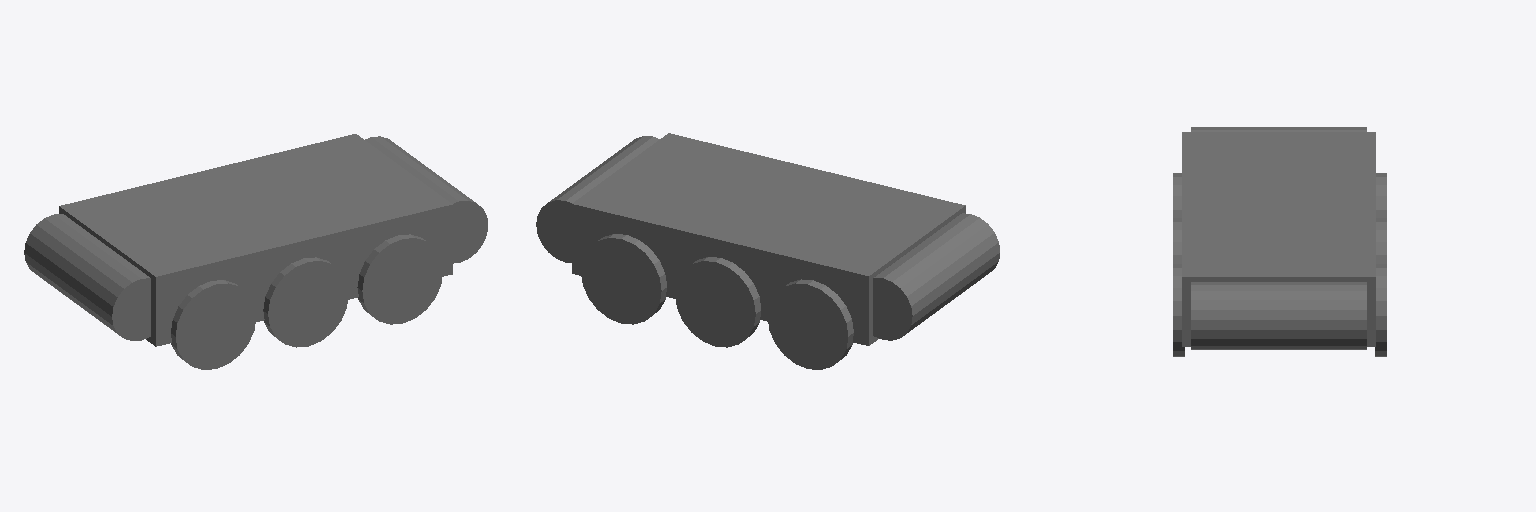
Rendered from cart.obj.
3 views of the same model, side by side, from view 1: azimuth 30°, elevation 25°; view 2: azimuth 150°, elevation 25°; view 3: azimuth 270°, elevation 25° (orthographic).
Visible parts, largest first — view 1: cart:pCube2; view 2: cart:pCube2; view 3: cart:pCube2.
Boxes of the visible parts, <box> form: cart:pCube2: <box>24,134,487,369</box>; cart:pCube2: <box>536,133,999,369</box>; cart:pCube2: <box>1173,127,1386,356</box>.
Size of the model in its own units: 0.484 by 0.1256 by 0.239.